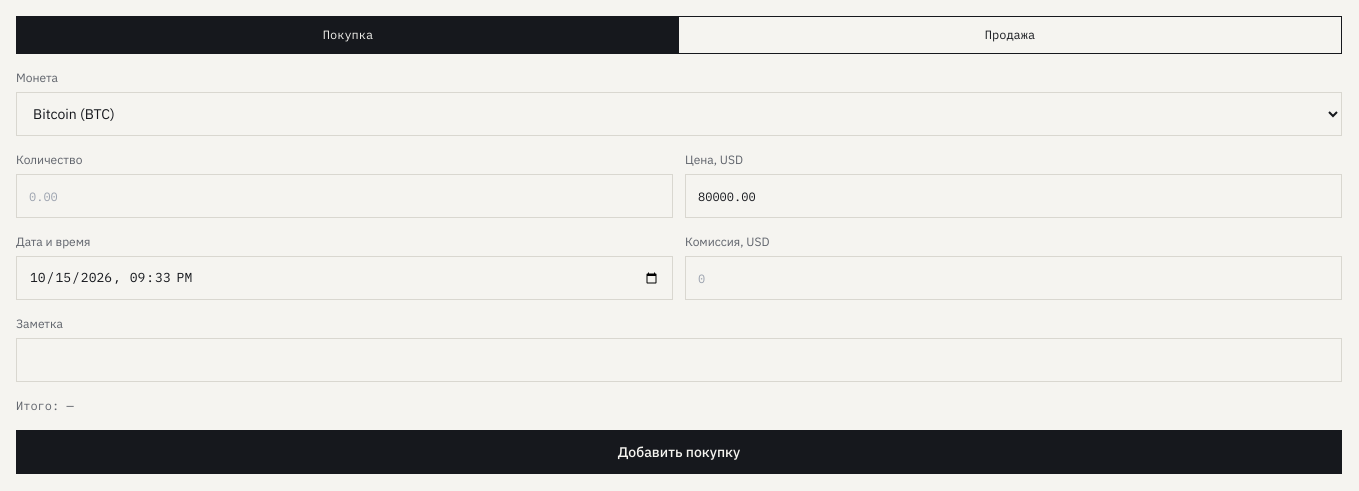
валидирует пустое количество
The image size is (1359, 491).
Click the button "Добавить покупку". click: [679, 452]
box: [16, 430, 1342, 474]
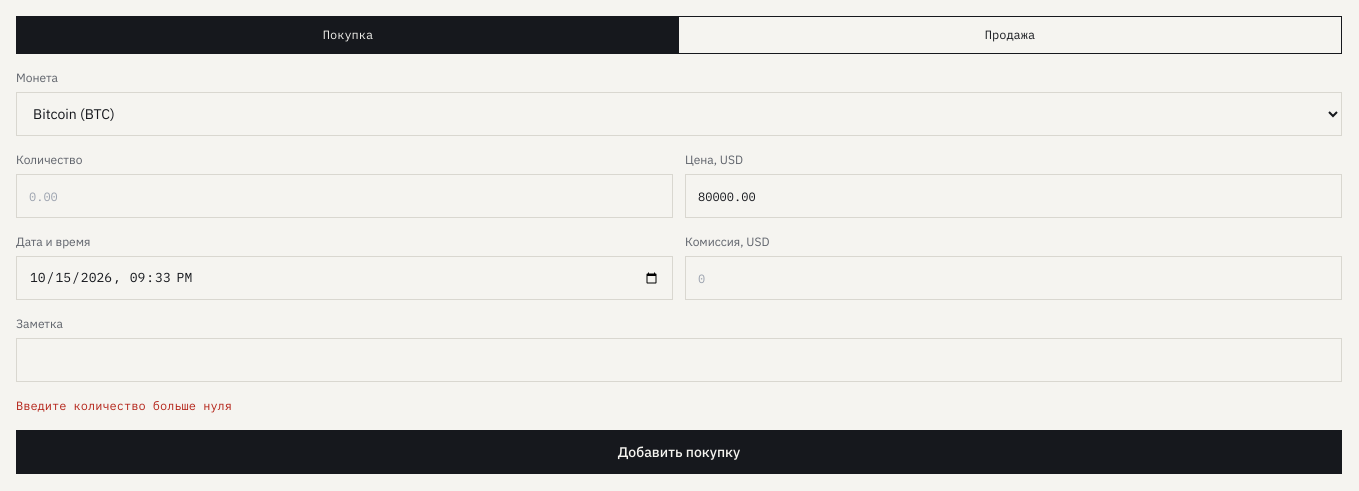
Result: the message shows "больше нуля" at [16, 398, 232, 413]
